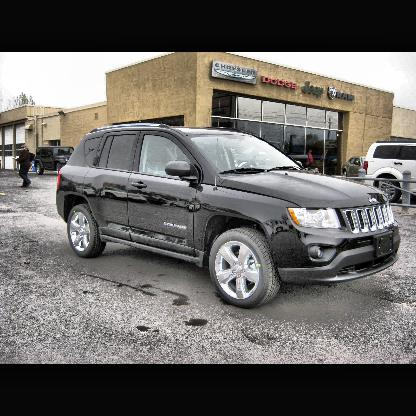Jeep Compass SUV 2012: (55, 125, 403, 312)
